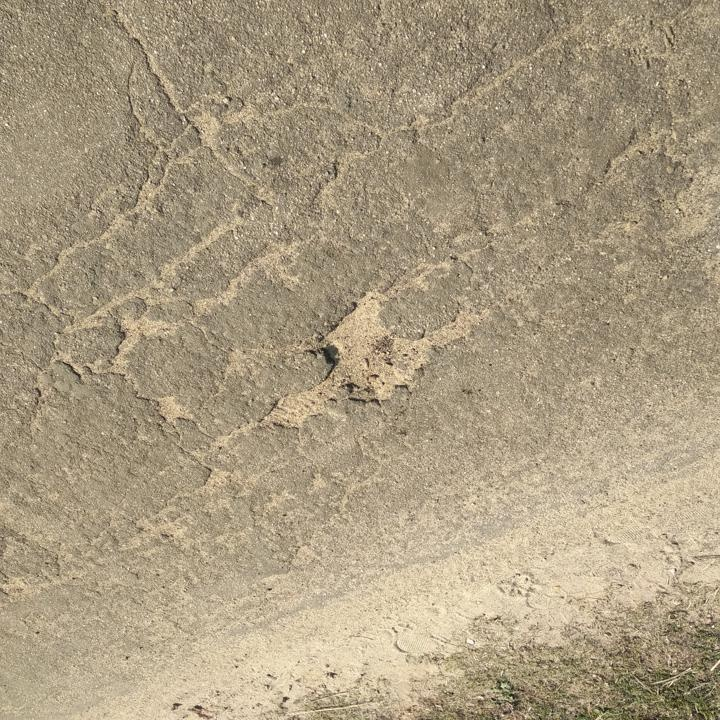pothole: (258, 289, 475, 432)
